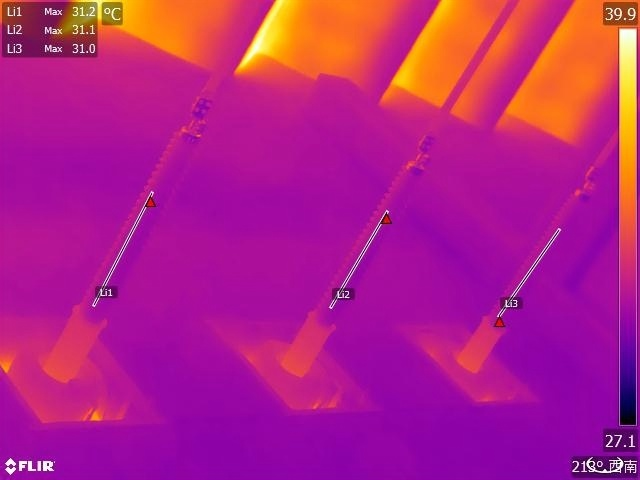tube: (48, 99, 207, 367), (289, 144, 430, 369), (464, 181, 586, 358)
